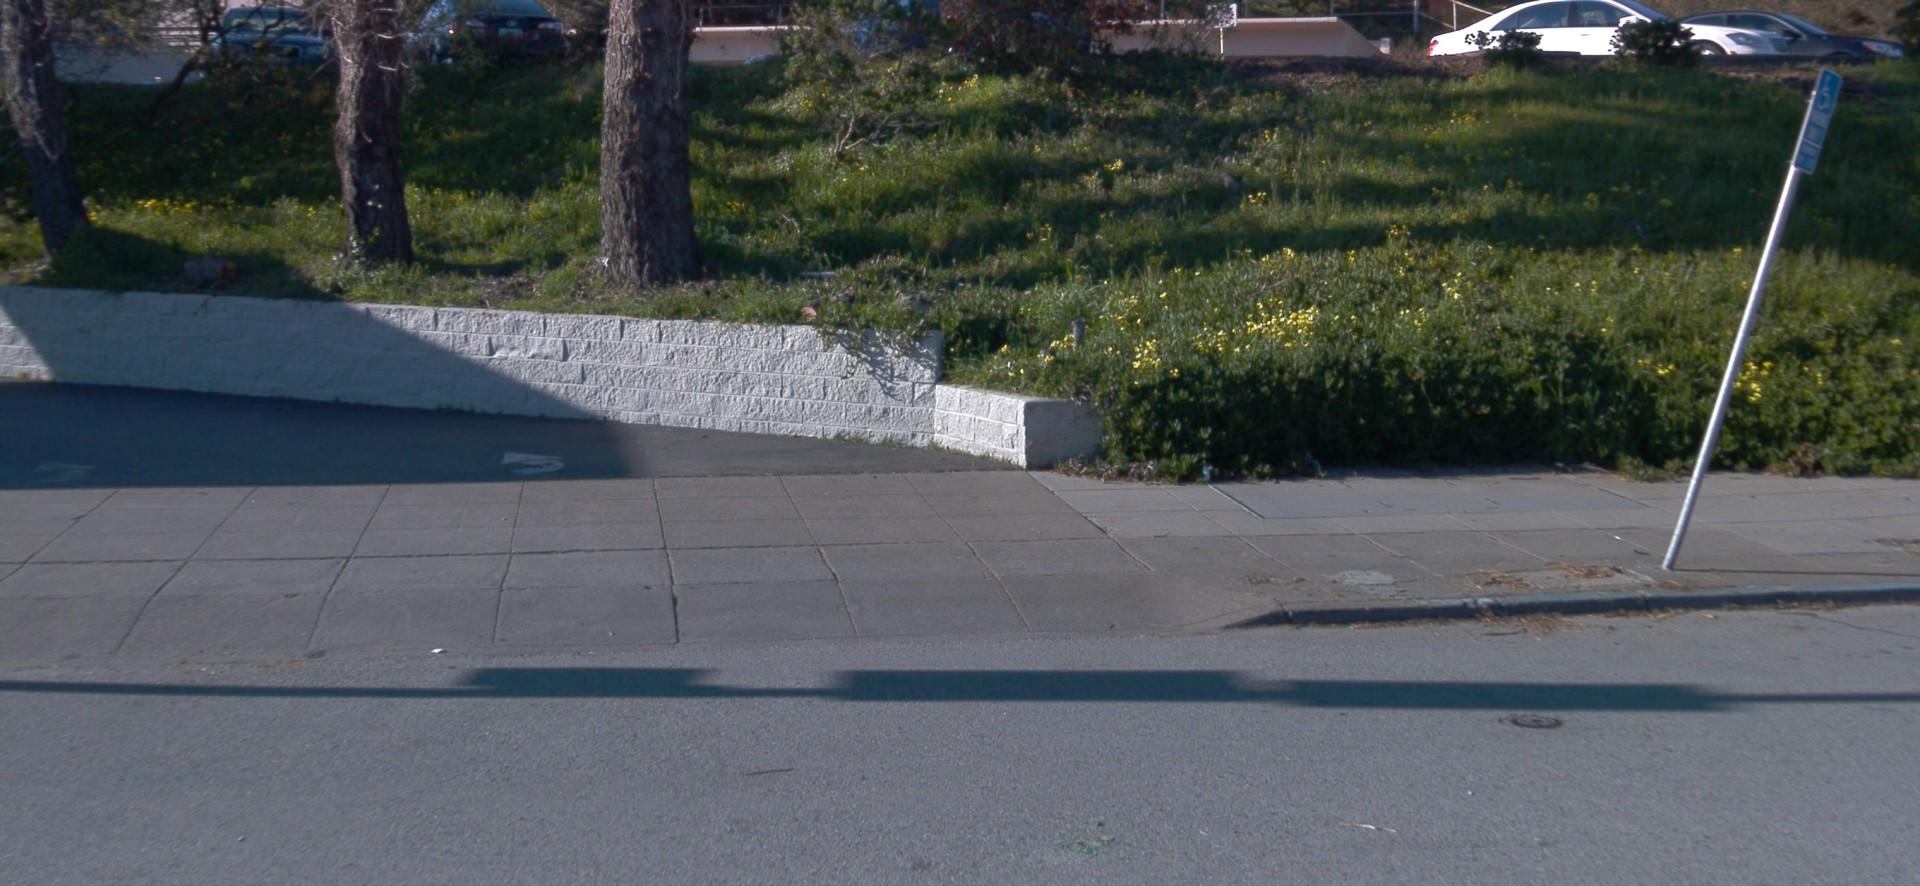TYPE_VEHICLE: (1425, 0, 1790, 57), (819, 0, 1091, 64), (1672, 8, 1911, 61), (402, 0, 574, 69), (205, 5, 333, 75), (741, 52, 788, 66)
